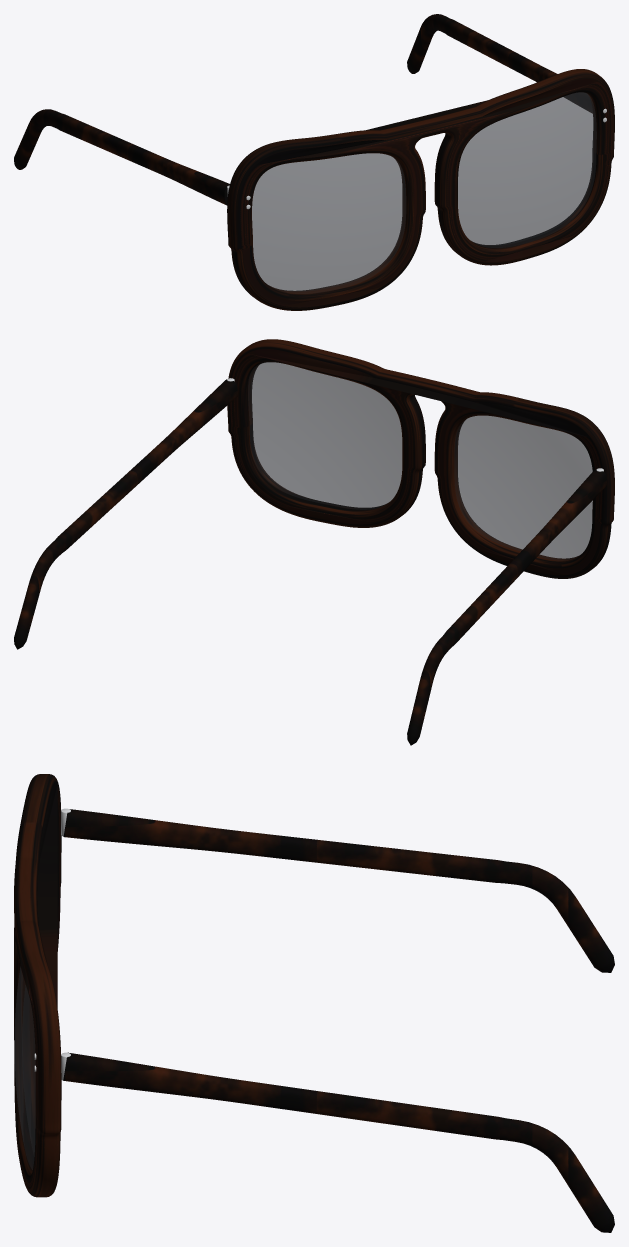
The model's file is luna-m.glb.
3 renders of one model, top to bottom at view 1: azimuth 30°, elevation 25°; view 2: azimuth 150°, elevation 25°; view 3: azimuth 270°, elevation 25°, orthographic. The views are drawn at different scales.
Visible parts, largest first — view 1: Front, Lens_R, Lens_L, Temple_R, Temple_L; view 2: Front, Lens_L, Lens_R, Temple_L, Temple_R; view 3: Front, Temple_L, Temple_R, Lens_L.
Part boxes in pixels (x1,y1,x2,y2): Front: [227, 69, 614, 310]; Lens_R: [252, 153, 405, 293]; Lens_L: [458, 92, 596, 247]; Temple_R: [14, 109, 229, 205]; Temple_L: [407, 14, 592, 113]; Front: [227, 339, 614, 578]; Lens_L: [248, 362, 402, 509]; Lens_R: [454, 415, 592, 560]; Temple_L: [14, 379, 237, 649]; Temple_R: [407, 469, 606, 745]; Front: [14, 774, 70, 1197]; Temple_L: [63, 1052, 614, 1232]; Temple_R: [63, 809, 614, 972]; Lens_L: [14, 966, 35, 1169].
Bounding box in the file's own units: 0.1503 × 0.061 × 0.1434.
Materials: 4 (2 with a texture image).
